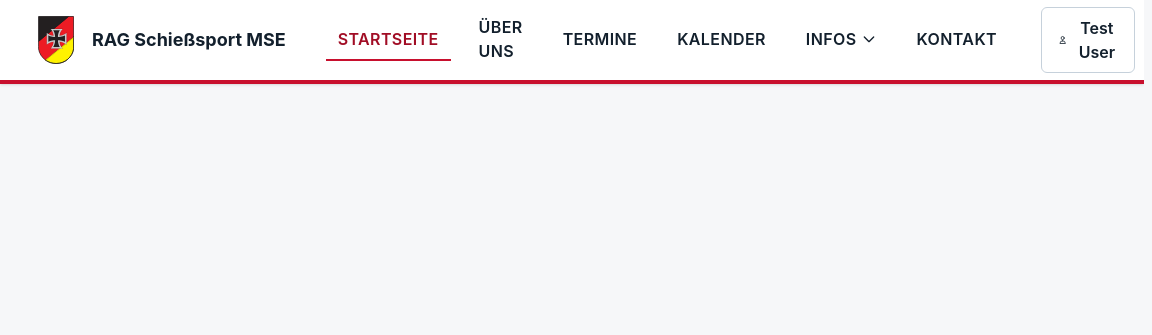
Test case: Navigation › closes user menu dropdown when clicking outside
The width and height of the screenshot is (1152, 335).
Click the button "Test User": (1088, 40) [1041,7,1135,73]
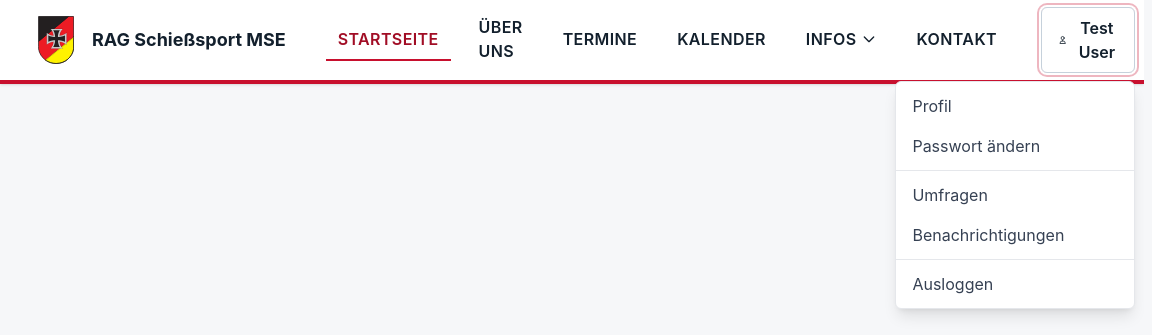
Result: the element with class "absolute" is shown at [895,81,1135,309]
Click the navigation bar: (572, 42) [0,0,1144,84]
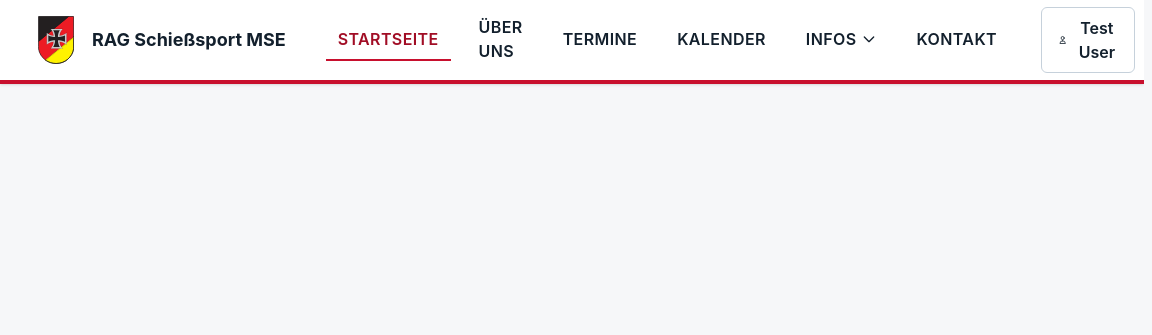
Result: the element with class "absolute" is gone
